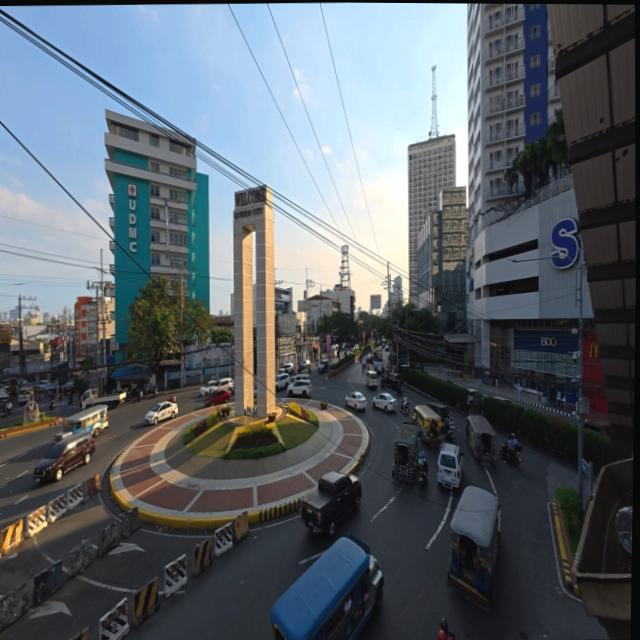Jeepneys: (271, 535, 384, 639), (448, 487, 500, 613), (52, 405, 108, 444), (392, 423, 419, 482), (466, 416, 497, 467), (414, 406, 442, 448)
bus: (374, 348, 383, 372)
car: (34, 434, 94, 481), (437, 443, 463, 487), (145, 401, 178, 424), (205, 389, 231, 407), (372, 393, 396, 411), (288, 379, 311, 397), (346, 392, 367, 411), (584, 421, 610, 436), (199, 380, 218, 396), (274, 372, 290, 390), (218, 378, 234, 395), (467, 389, 482, 405), (385, 372, 400, 386), (493, 396, 514, 405), (283, 363, 295, 374), (318, 358, 328, 371), (38, 380, 49, 389), (277, 367, 288, 374), (305, 360, 311, 369), (353, 345, 359, 353), (384, 344, 389, 352), (0, 412, 1, 420)
motorcycle: (501, 443, 522, 466), (439, 619, 459, 639), (446, 417, 455, 441), (418, 467, 426, 488), (149, 384, 158, 398), (400, 402, 410, 414), (48, 397, 56, 410), (396, 384, 403, 397), (68, 394, 73, 406), (6, 405, 11, 416), (170, 393, 176, 402), (362, 363, 365, 373)
trucks: (301, 472, 362, 536), (81, 388, 126, 409)
vans: (365, 369, 378, 389), (19, 388, 33, 404), (290, 373, 309, 383)
